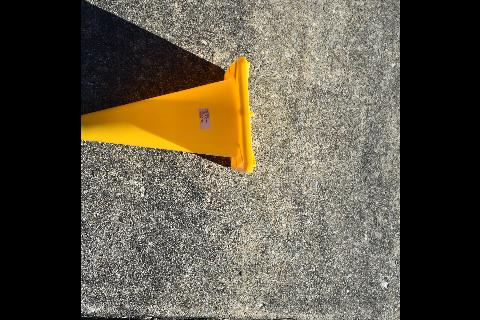cone: (80, 55, 256, 173)
